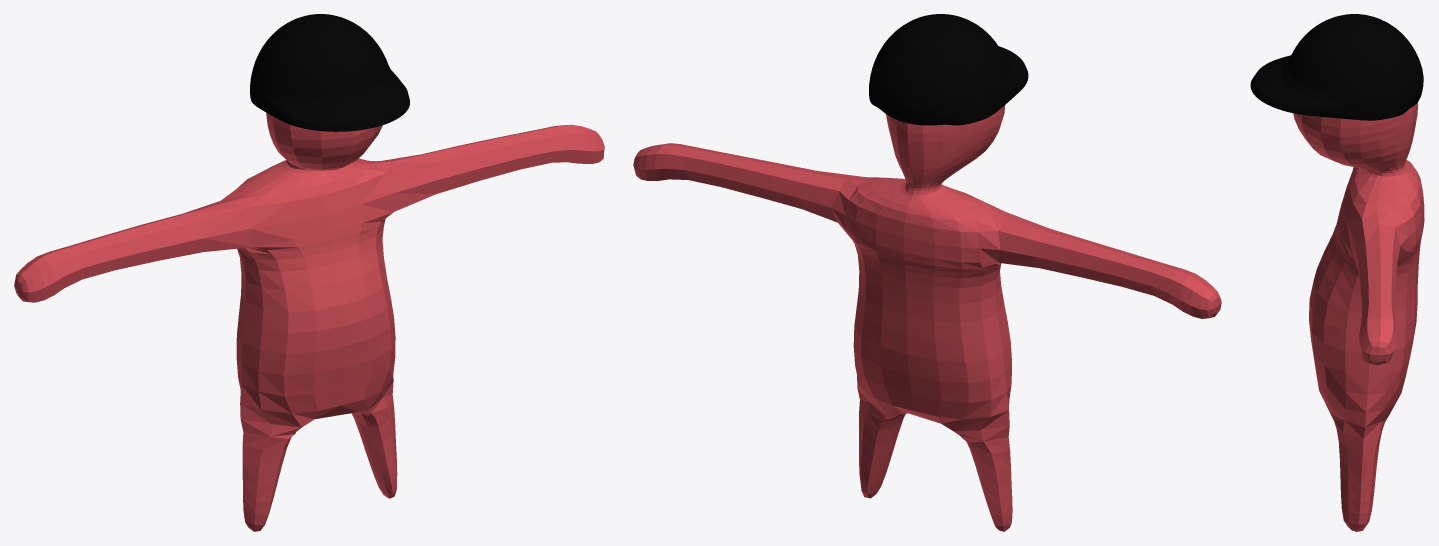
Rendered from Player2.glb.
The picture shows the model from 3 angles, left to right: view 1: azimuth 30°, elevation 25°; view 2: azimuth 150°, elevation 25°; view 3: azimuth 270°, elevation 25°; orthographic projection. The views are drawn at different scales.
Visible parts, largest first — view 1: Mesh_0; view 2: Mesh_0; view 3: Mesh_0.
Part boxes in pixels (x1=…): Mesh_0: x1=14, y1=14, x2=604, y2=531; Mesh_0: x1=633, y1=14, x2=1221, y2=531; Mesh_0: x1=1250, y1=14, x2=1424, y2=531.
Bounding box in the file's own units: 3.38 × 2.75 × 0.9028.
